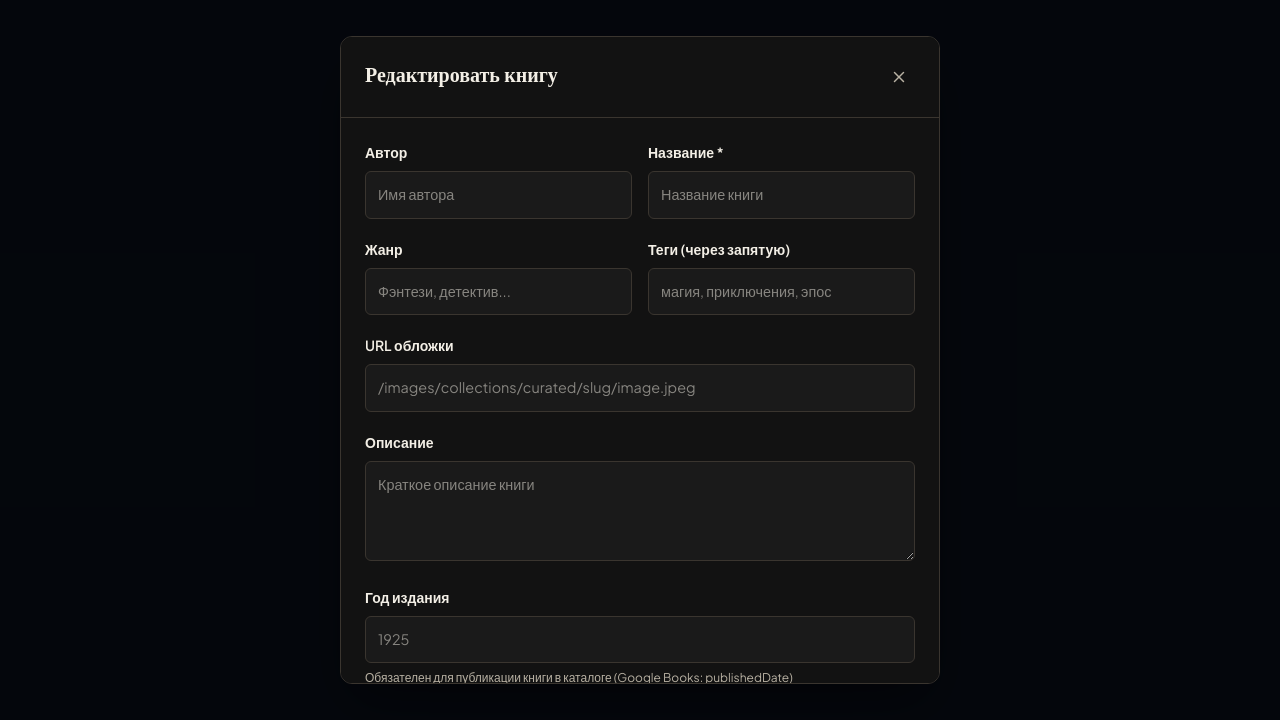
Scenario: EditBookModal: автопоиск в каталоге › автопоиск не затирает уже заполненную оценку
Type "Правда о деле Гарри Квеберта" into the field with placeholder "Название книги". click: (782, 195)
box: [648, 171, 915, 219]
(page scrolled)
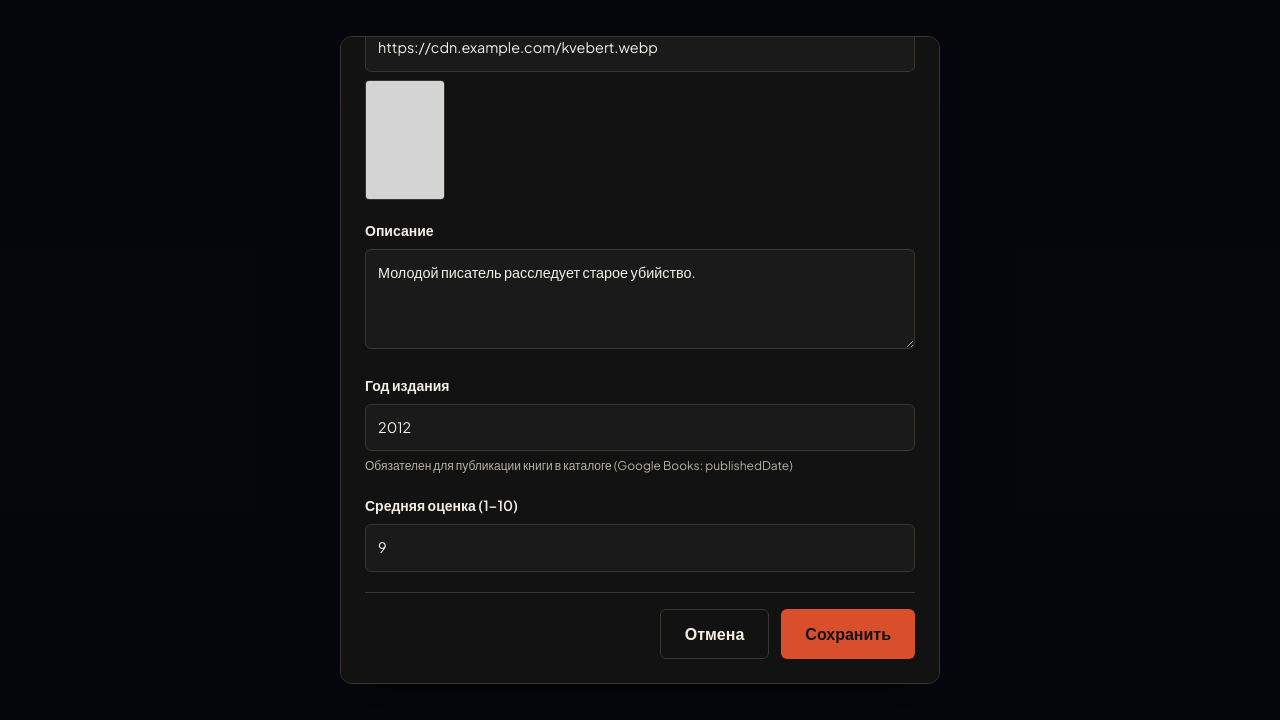
Result: the number field with placeholder "8.5" below "Средняя оценка (1–10)" holds "9" at [365, 524, 915, 572]
